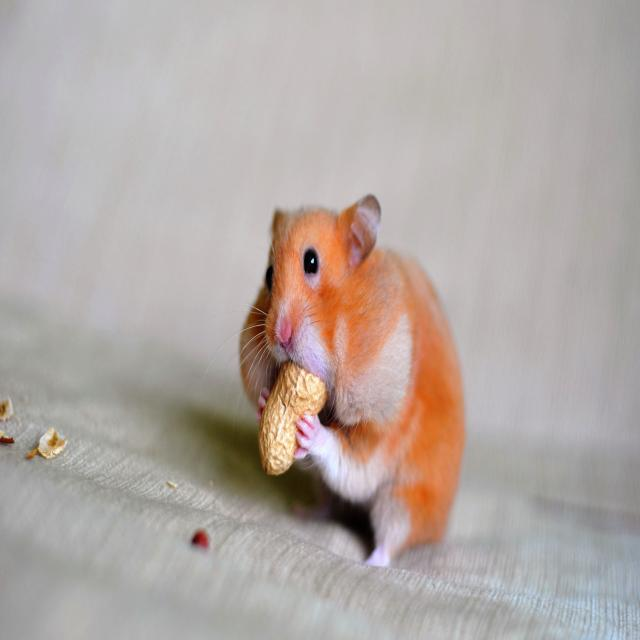hamster: (240, 195, 465, 565)
